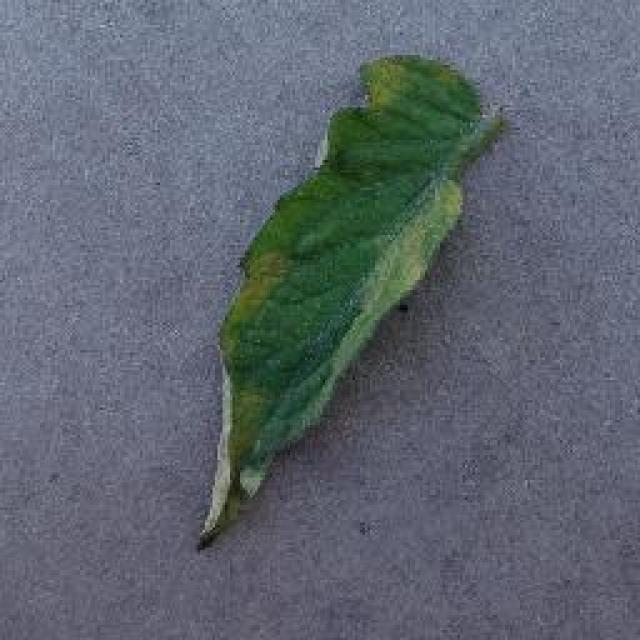leaf mold: (201, 53, 506, 542)
